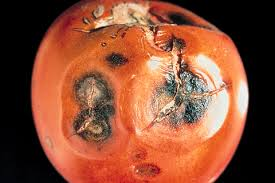anthracnose: (51, 56, 132, 157)
